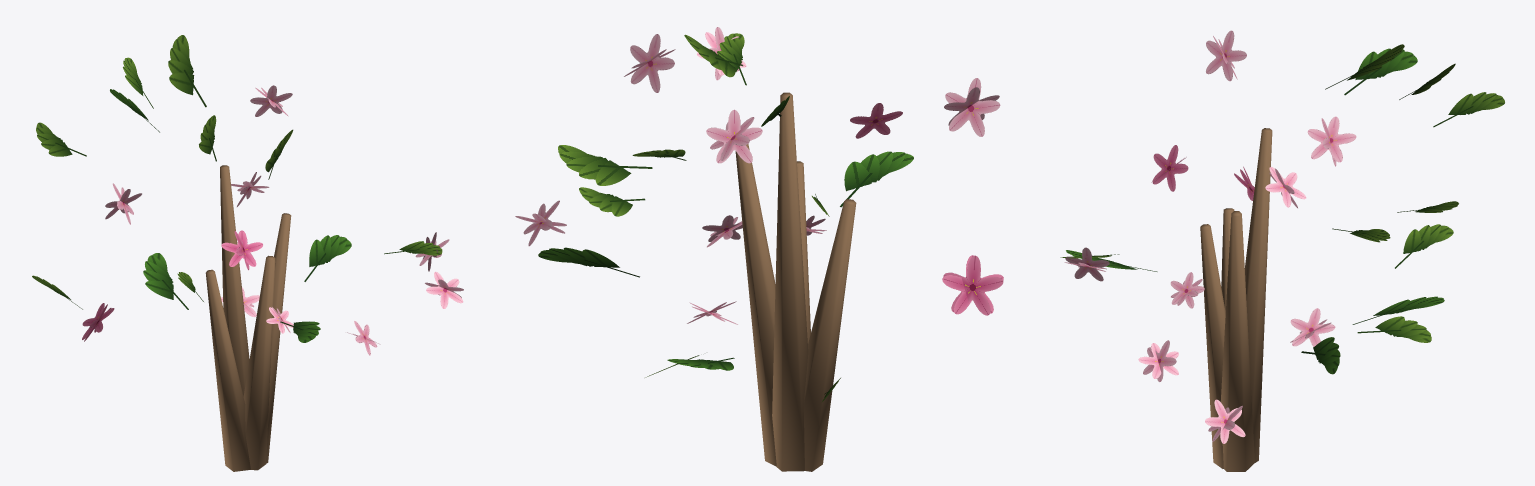
The model's file is pink_shrub_sparse.glb.
3 renders of one model, left to right at view 1: azimuth 30°, elevation 25°; view 2: azimuth 150°, elevation 25°; view 3: azimuth 270°, elevation 25°, orthographic. The views are drawn at different scales.
Visible parts, largest first — view 1: pink_shrub_sparse; view 2: pink_shrub_sparse; view 3: pink_shrub_sparse.
Part boxes in pixels (x1,y1,x2,y2): pink_shrub_sparse: (32, 35, 463, 471); pink_shrub_sparse: (515, 27, 1003, 471); pink_shrub_sparse: (1060, 30, 1504, 471).
Size of the model in its own units: 1.58 by 1.52 by 1.5.
5 materials, 4 textured.
